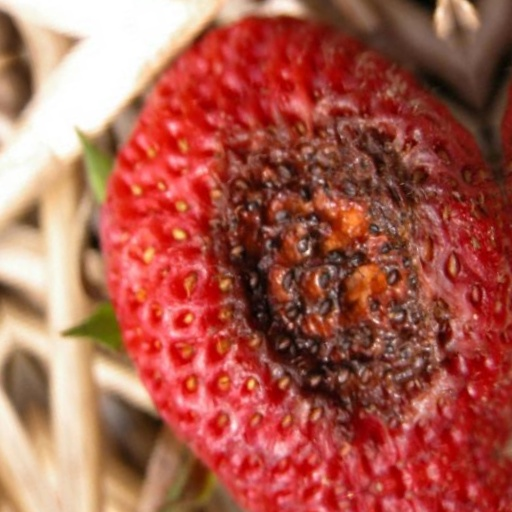Anthracnose Fruit Rot: (192, 109, 473, 462)
